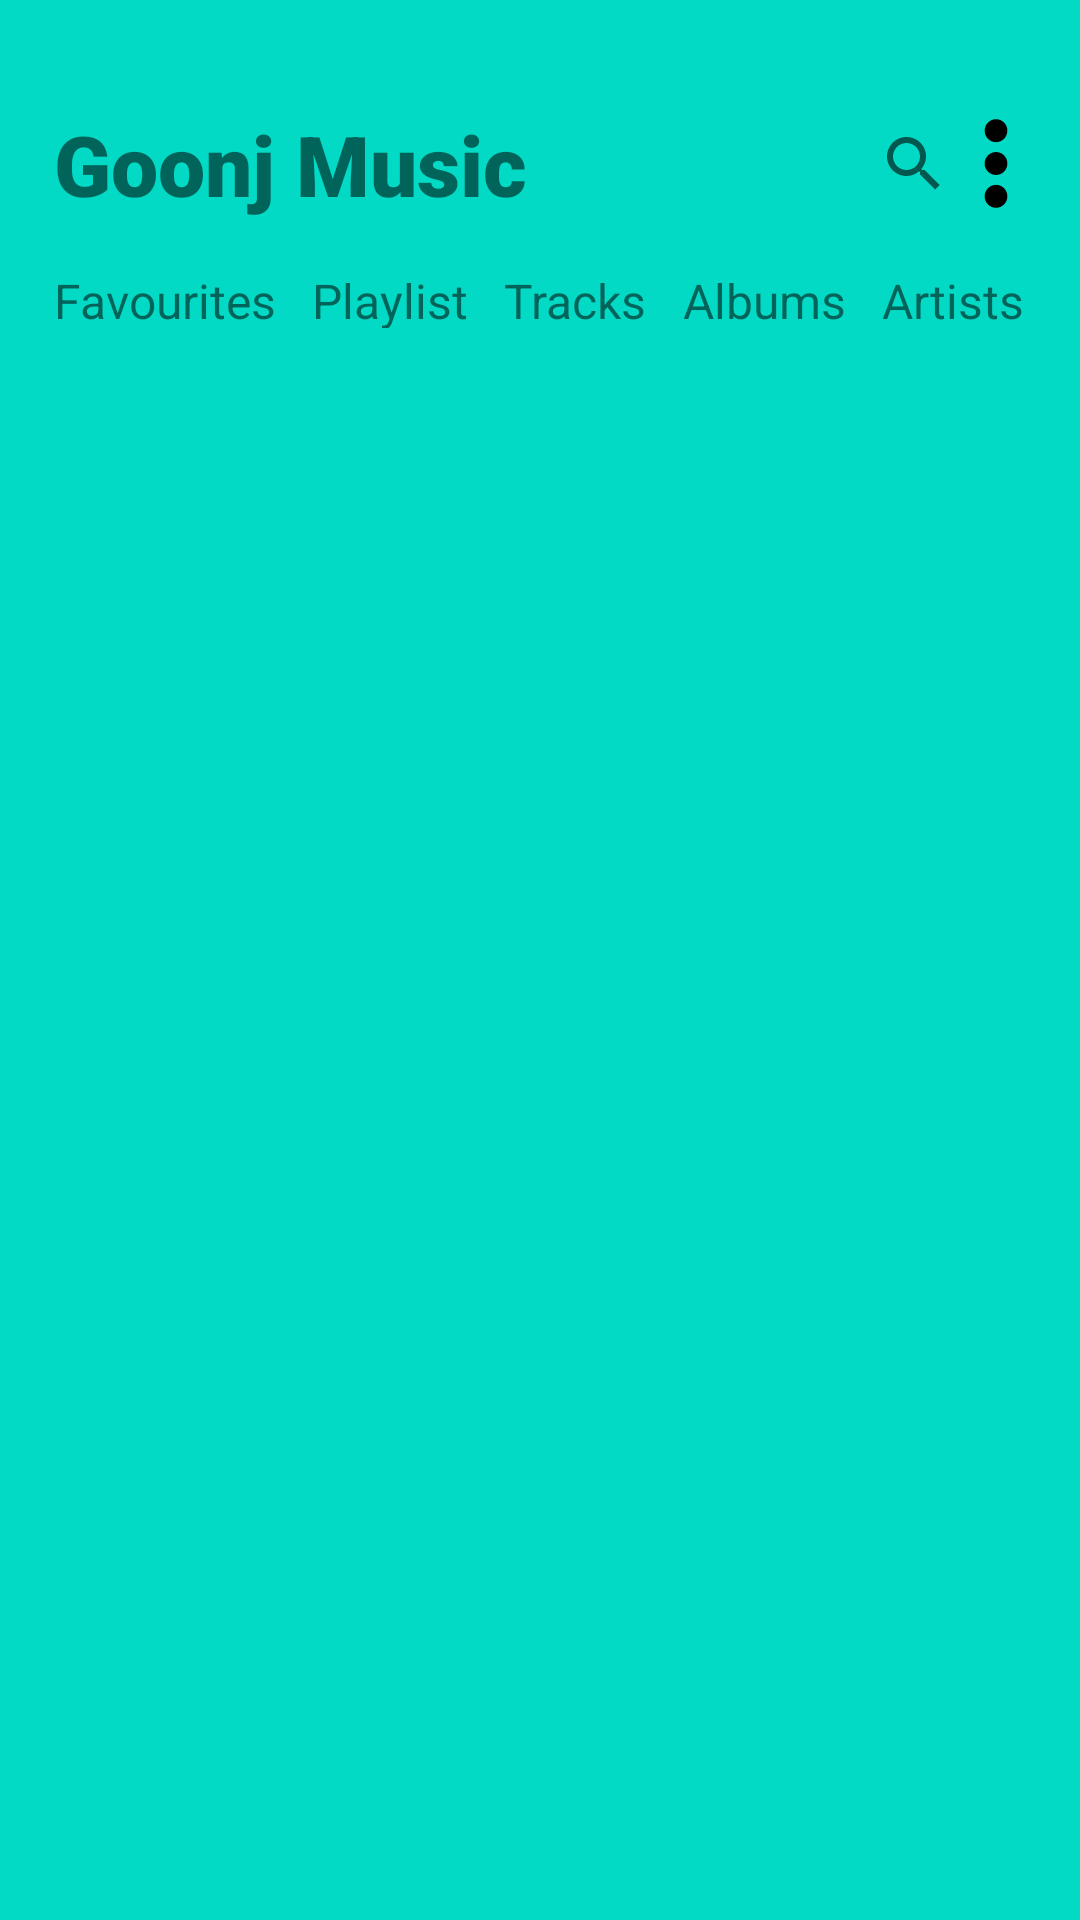

Where to tap for icons on this 1080 × 1920 app screen, as [x,y]:
ellipsis vertical: [996,163]
